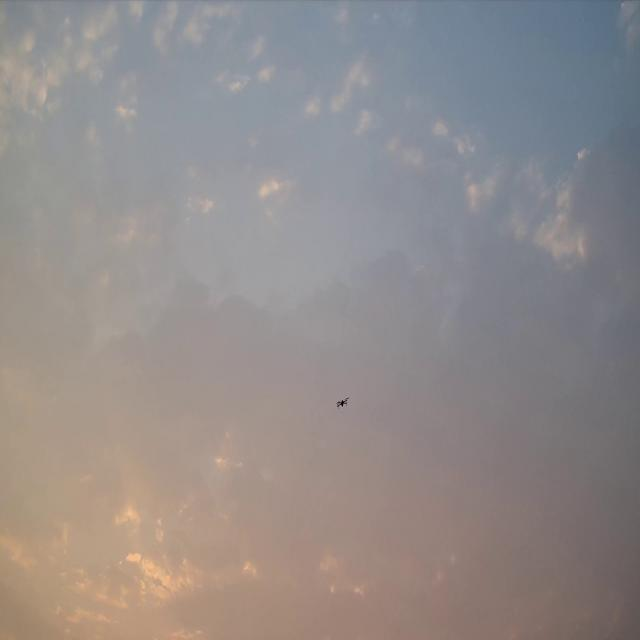drone: (336, 396, 349, 408)
